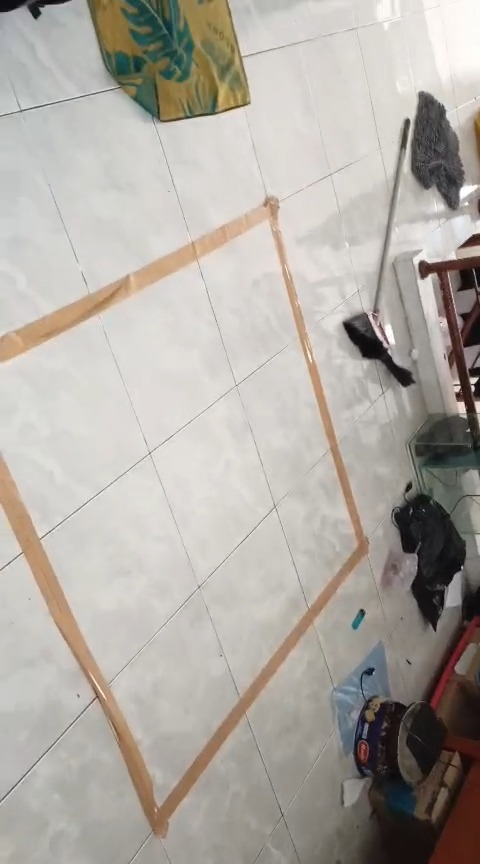floor marking: (0, 198, 367, 836)
